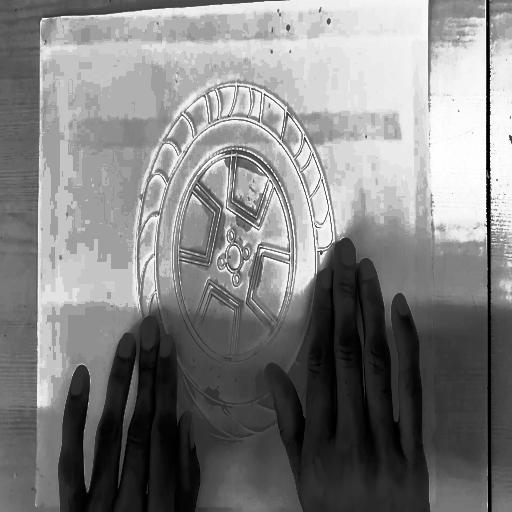tire: (130, 64, 346, 453)
top_left: (37, 14, 43, 27)
